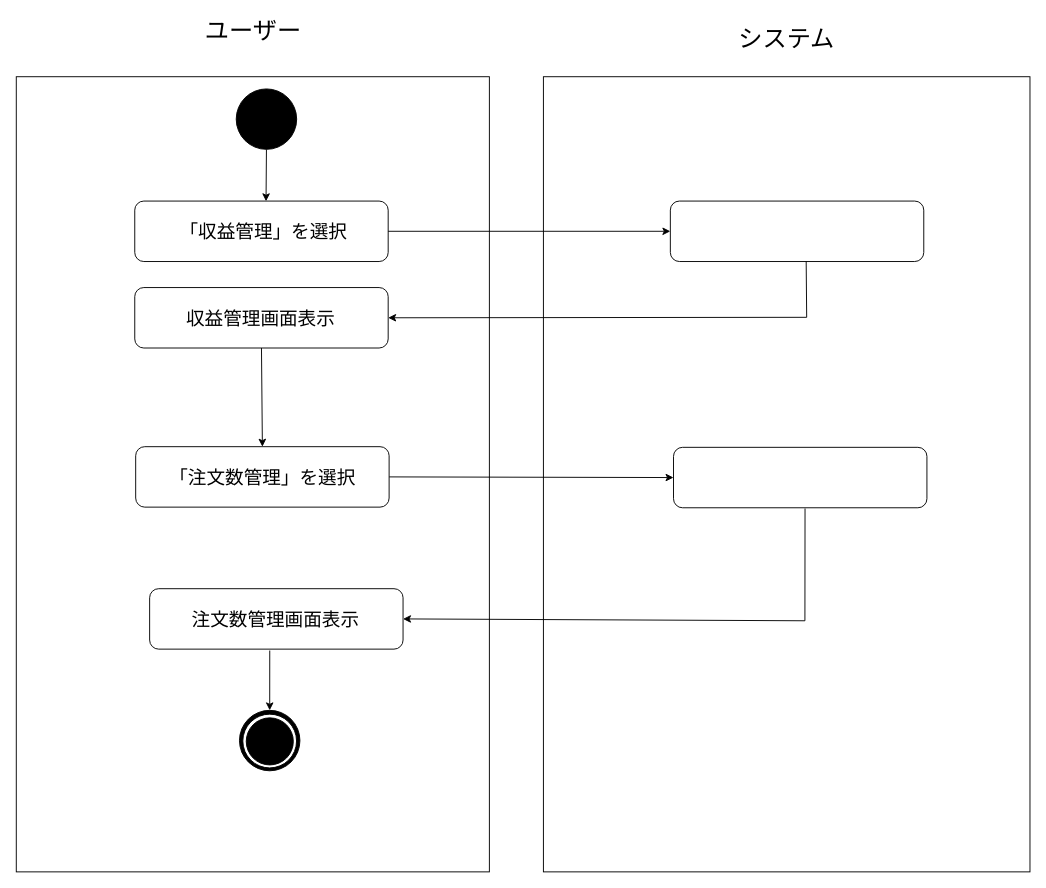
The diagram is 1046 pixels wide and 888 high, and some of its shapes have lost their labels. Here are the shapes that lost their labels. From the top down, the centre of each, then its label:
At point (796, 231): "収益管理画面生成".
At point (800, 477): "注文数管理画面生成".
